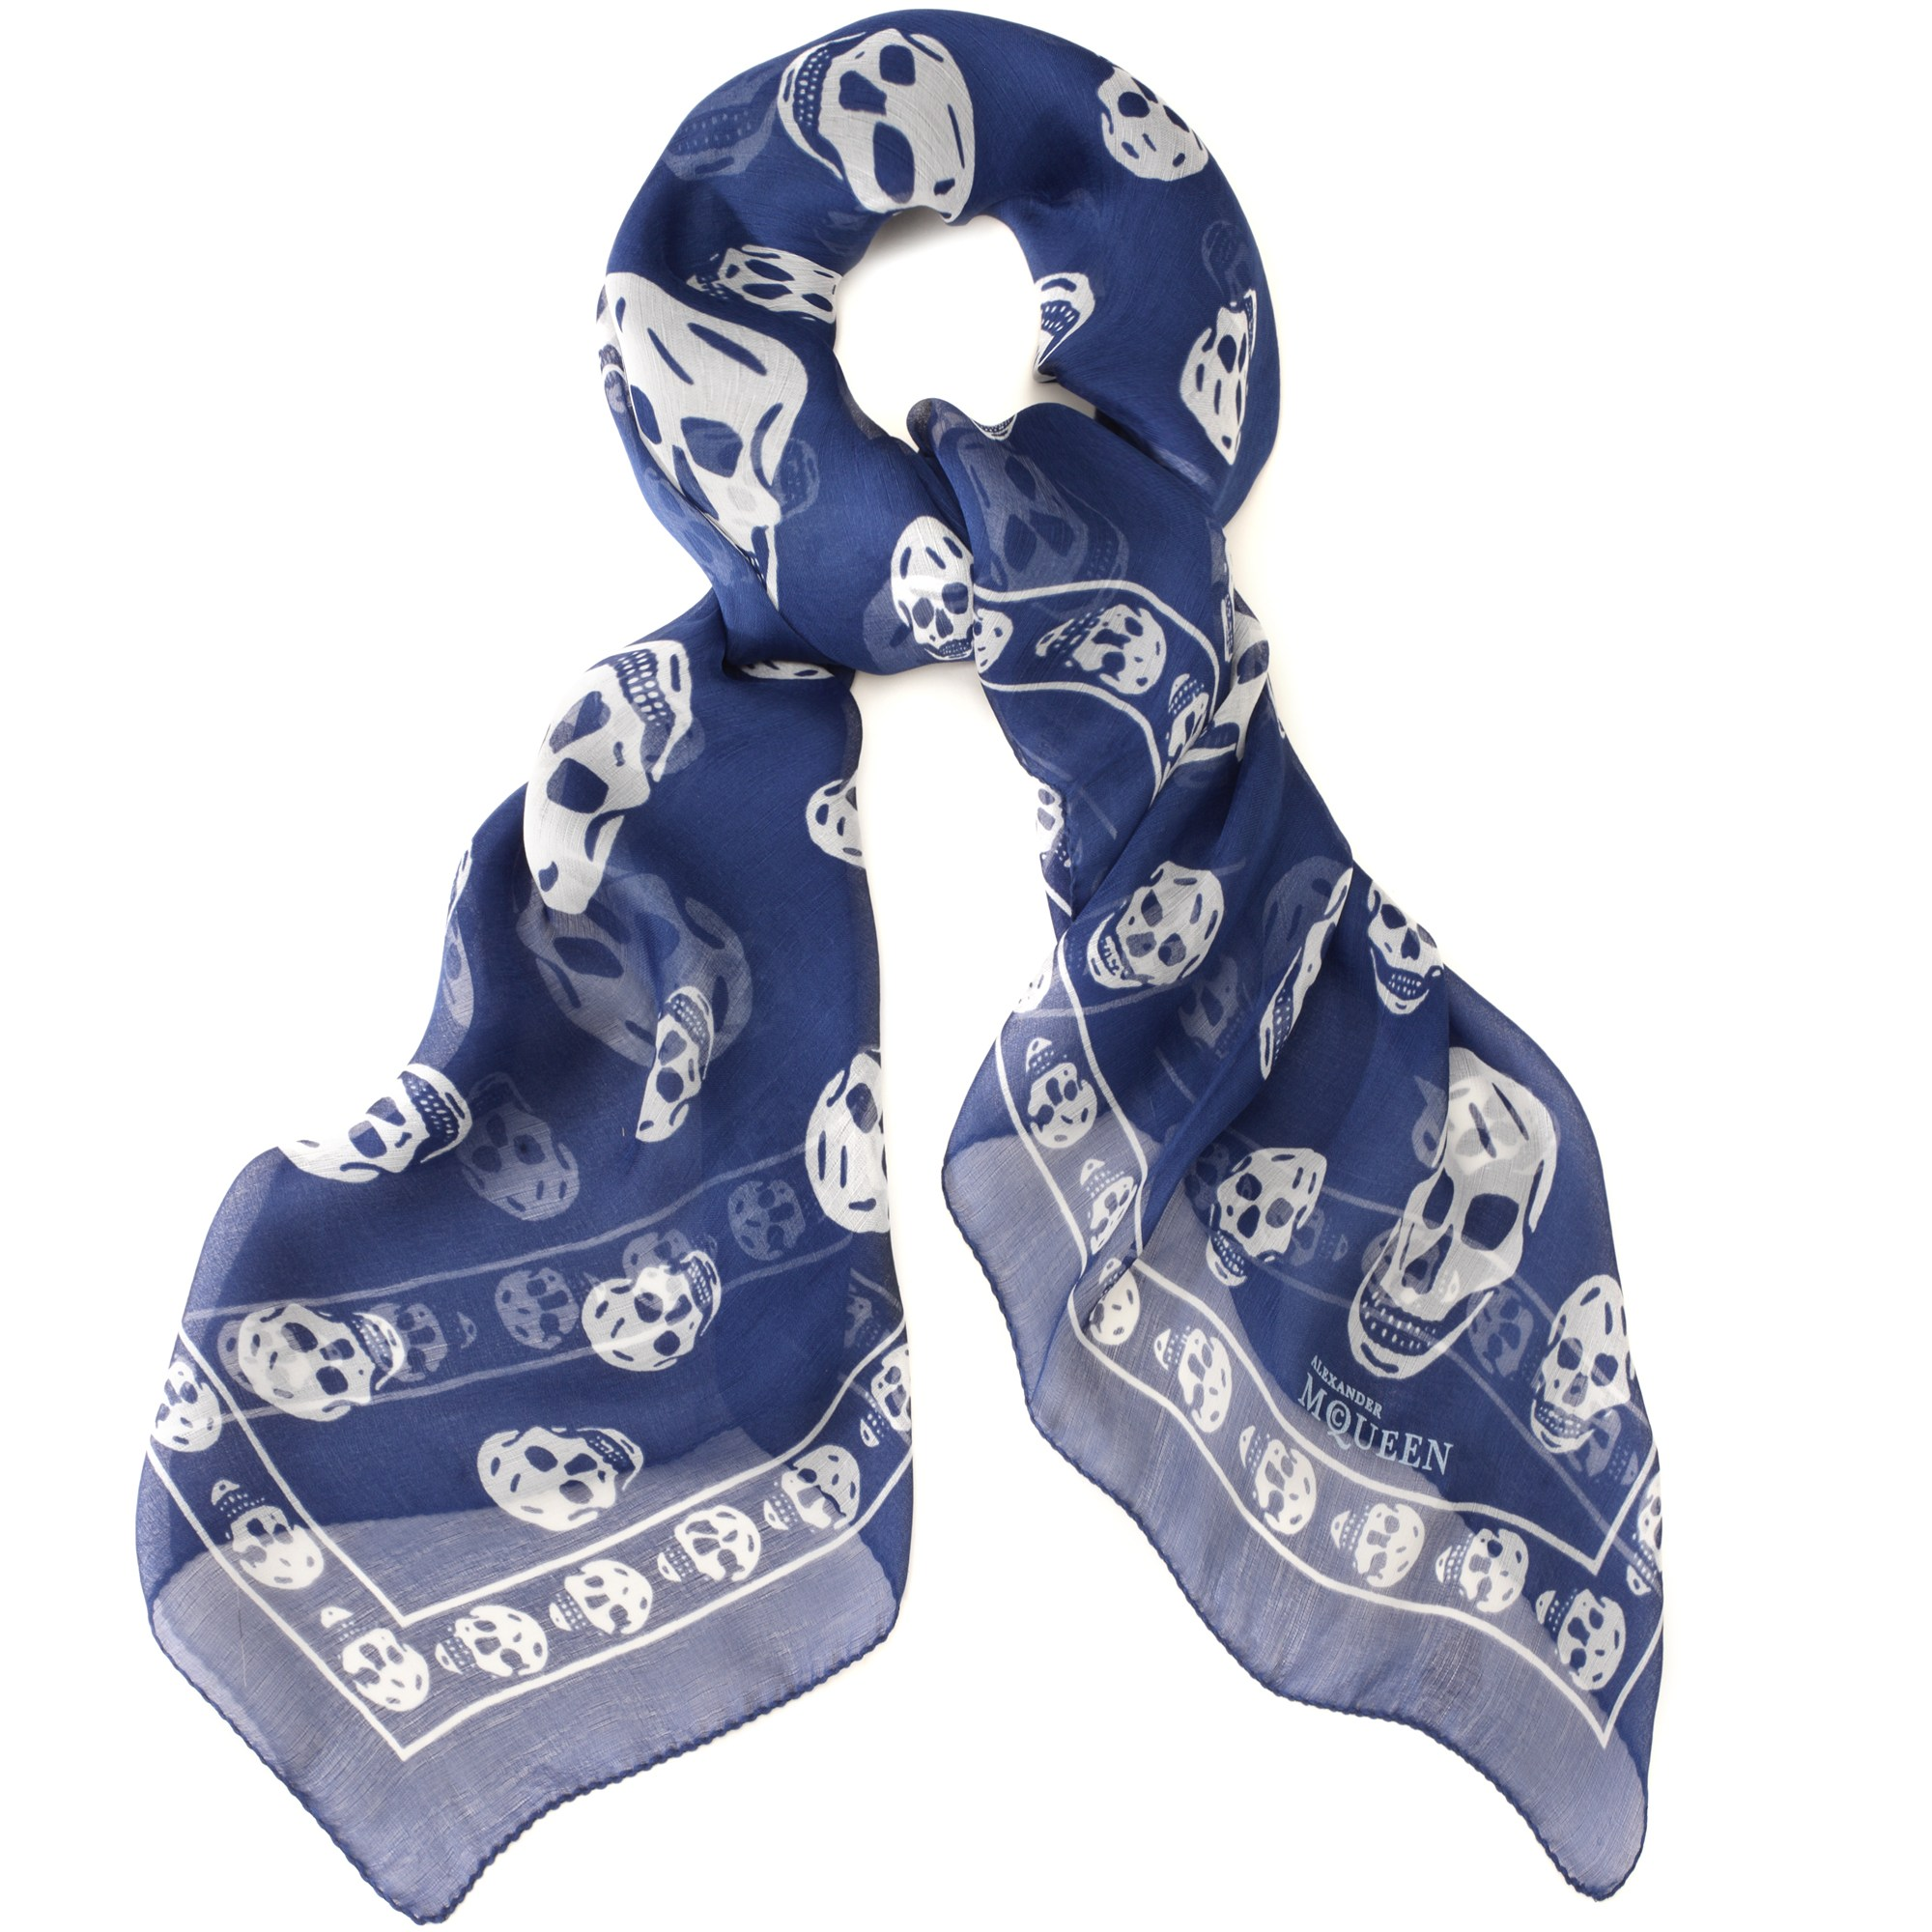flexible: (106, 23, 1720, 1897)
